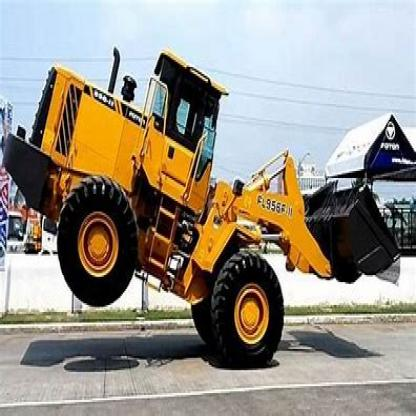bull_dozer/loader/grader: (2, 39, 406, 370)
